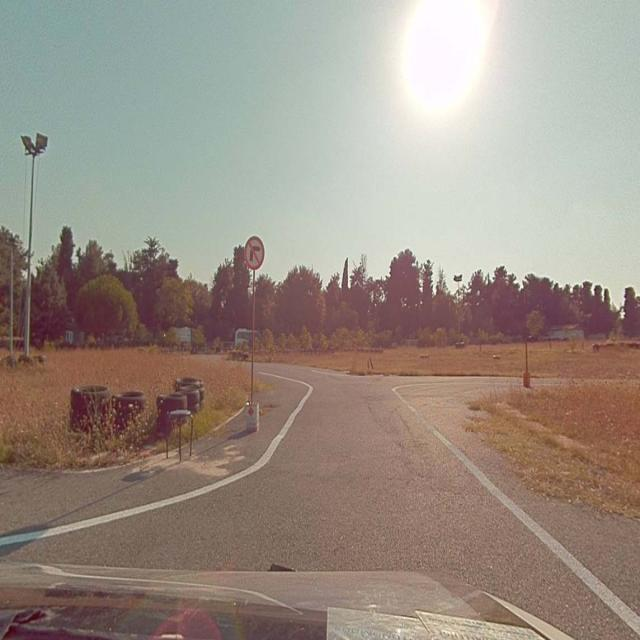sagadonulmez: (244, 235, 264, 269)
